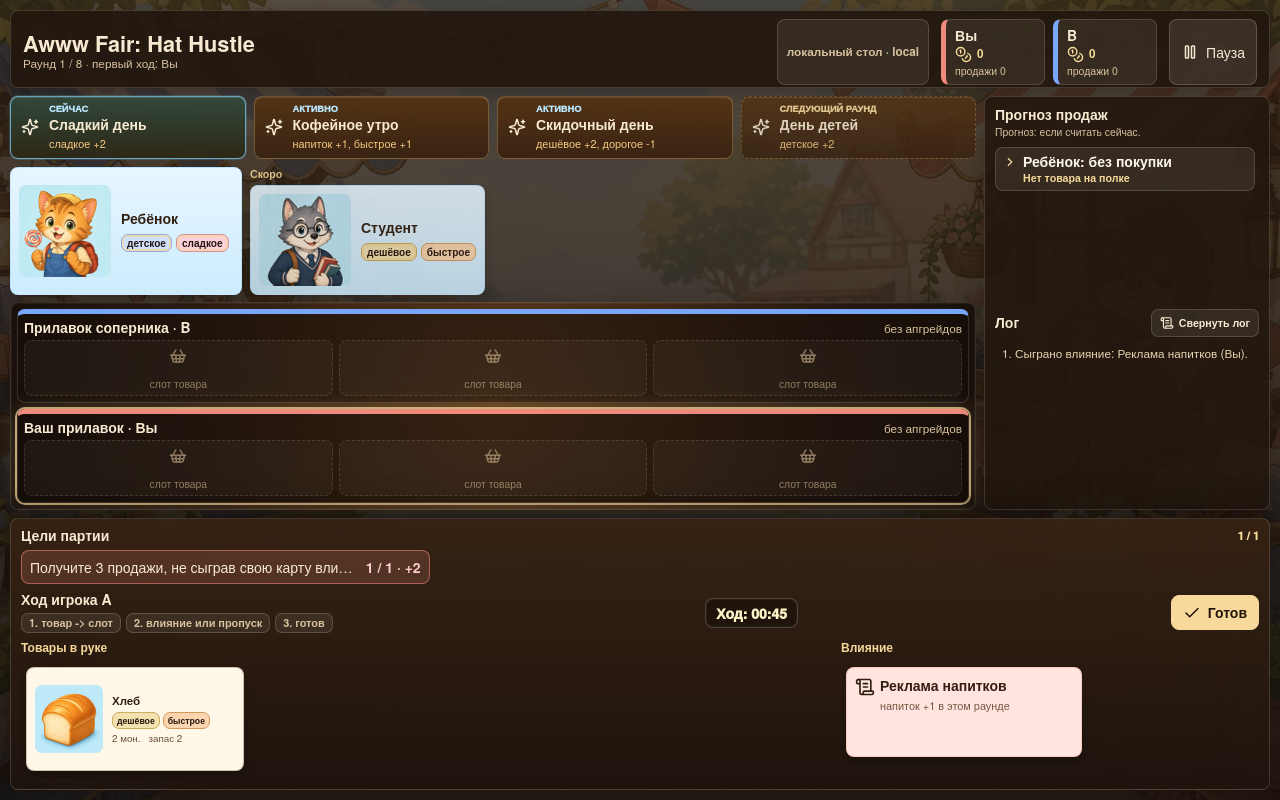
Scenario: App layout shell › can collapse and reopen the event log
Expected: the list with class "event-log" is shown, left=1015, top=344, right=1248, bottom=361
Expected: the list item "Сыграно влияние: Реклама напитков (Вы)." is shown, left=1015, top=345, right=1255, bottom=361
Click the button "Свернуть лог": (1205, 323) left=1151, top=309, right=1259, bottom=337
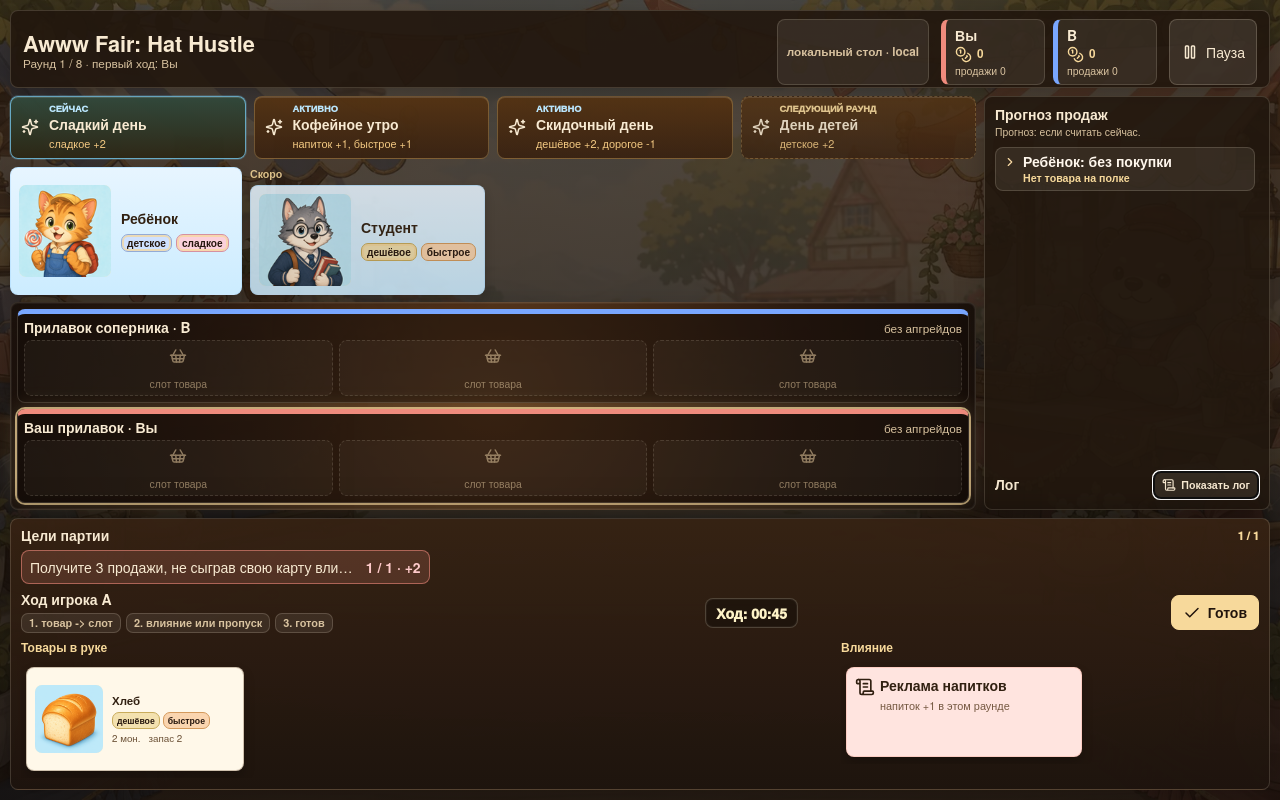
Expected: the list item "Сыграно влияние" is gone
Click the button "Показать лог": (1206, 485) left=1153, top=471, right=1259, bottom=499
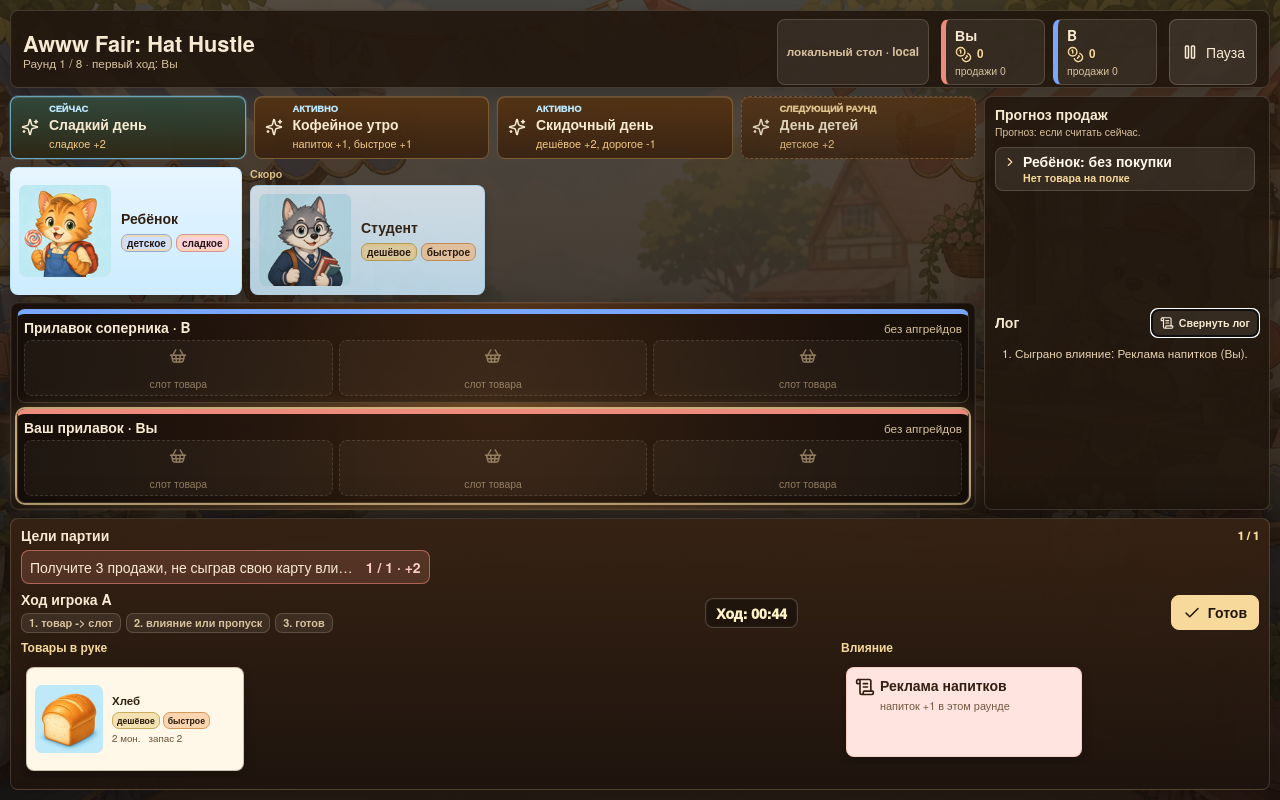
Expected: the list item "Сыграно влияние: Реклама напитков (Вы)." is shown, left=1015, top=345, right=1255, bottom=361
